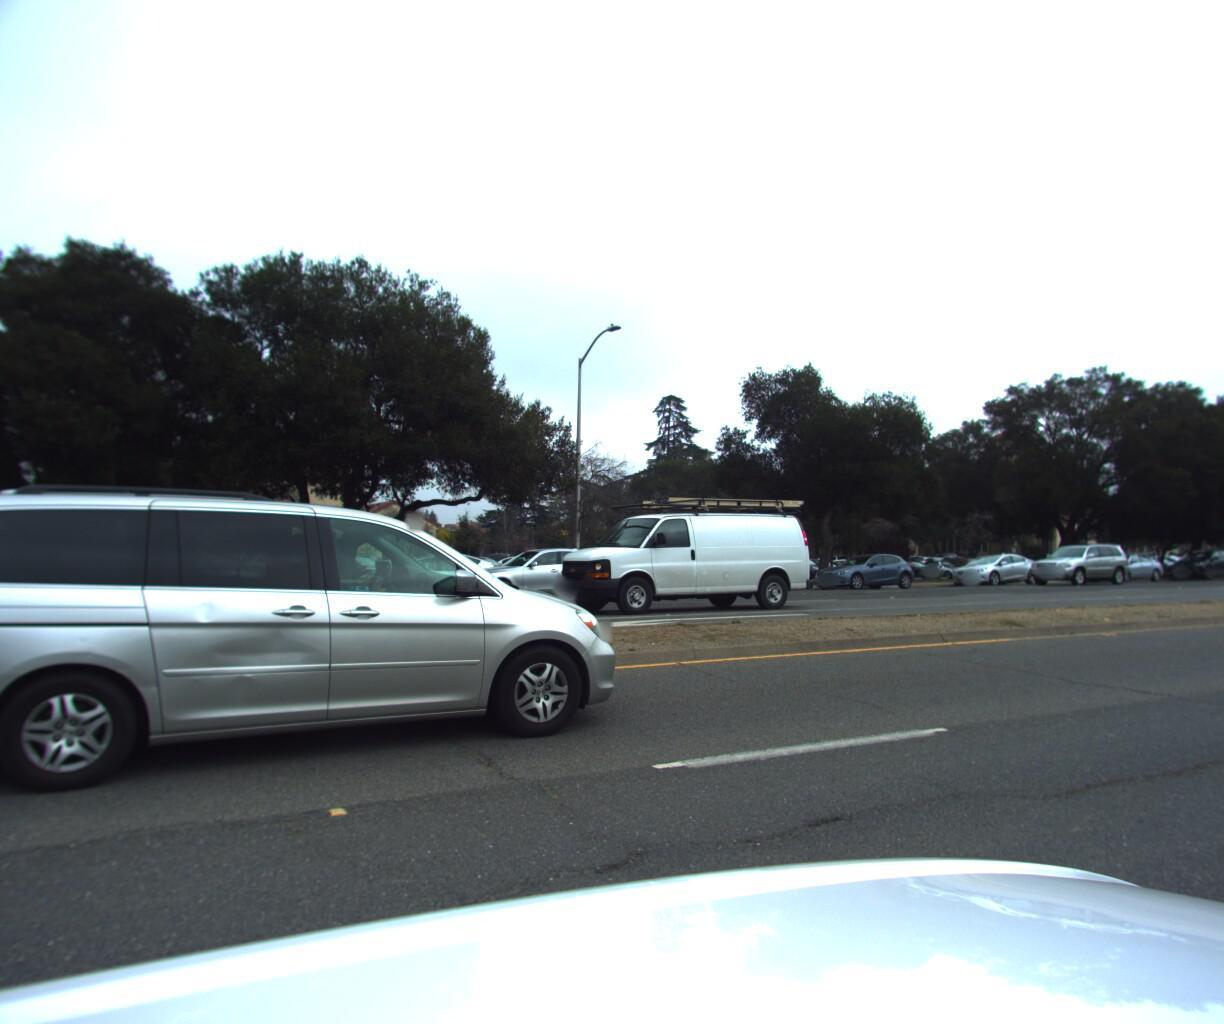car: (0, 464, 655, 830), (540, 489, 818, 617), (454, 543, 640, 601), (341, 548, 510, 604), (1022, 539, 1133, 586), (807, 549, 924, 590), (940, 548, 1045, 583), (1074, 549, 1168, 580), (1161, 543, 1224, 575), (1222, 548, 1224, 574)
